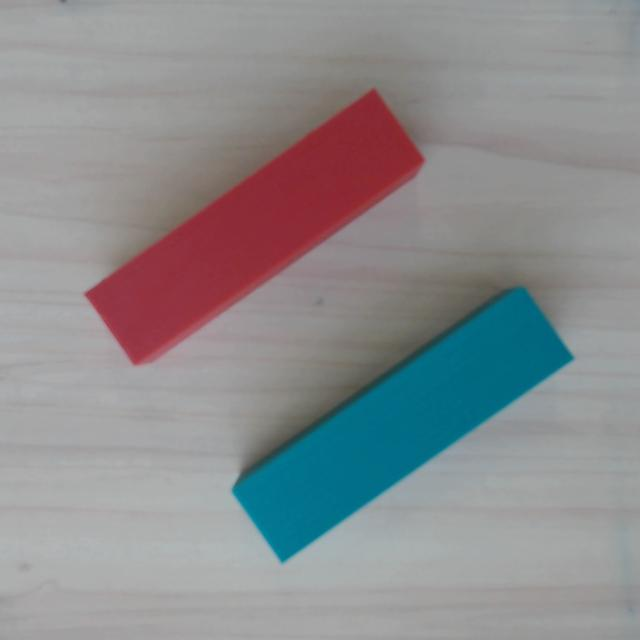Balok-Hijau-1002525: (227, 280, 574, 563)
Balok-Merah-1002525: (83, 88, 430, 371)
